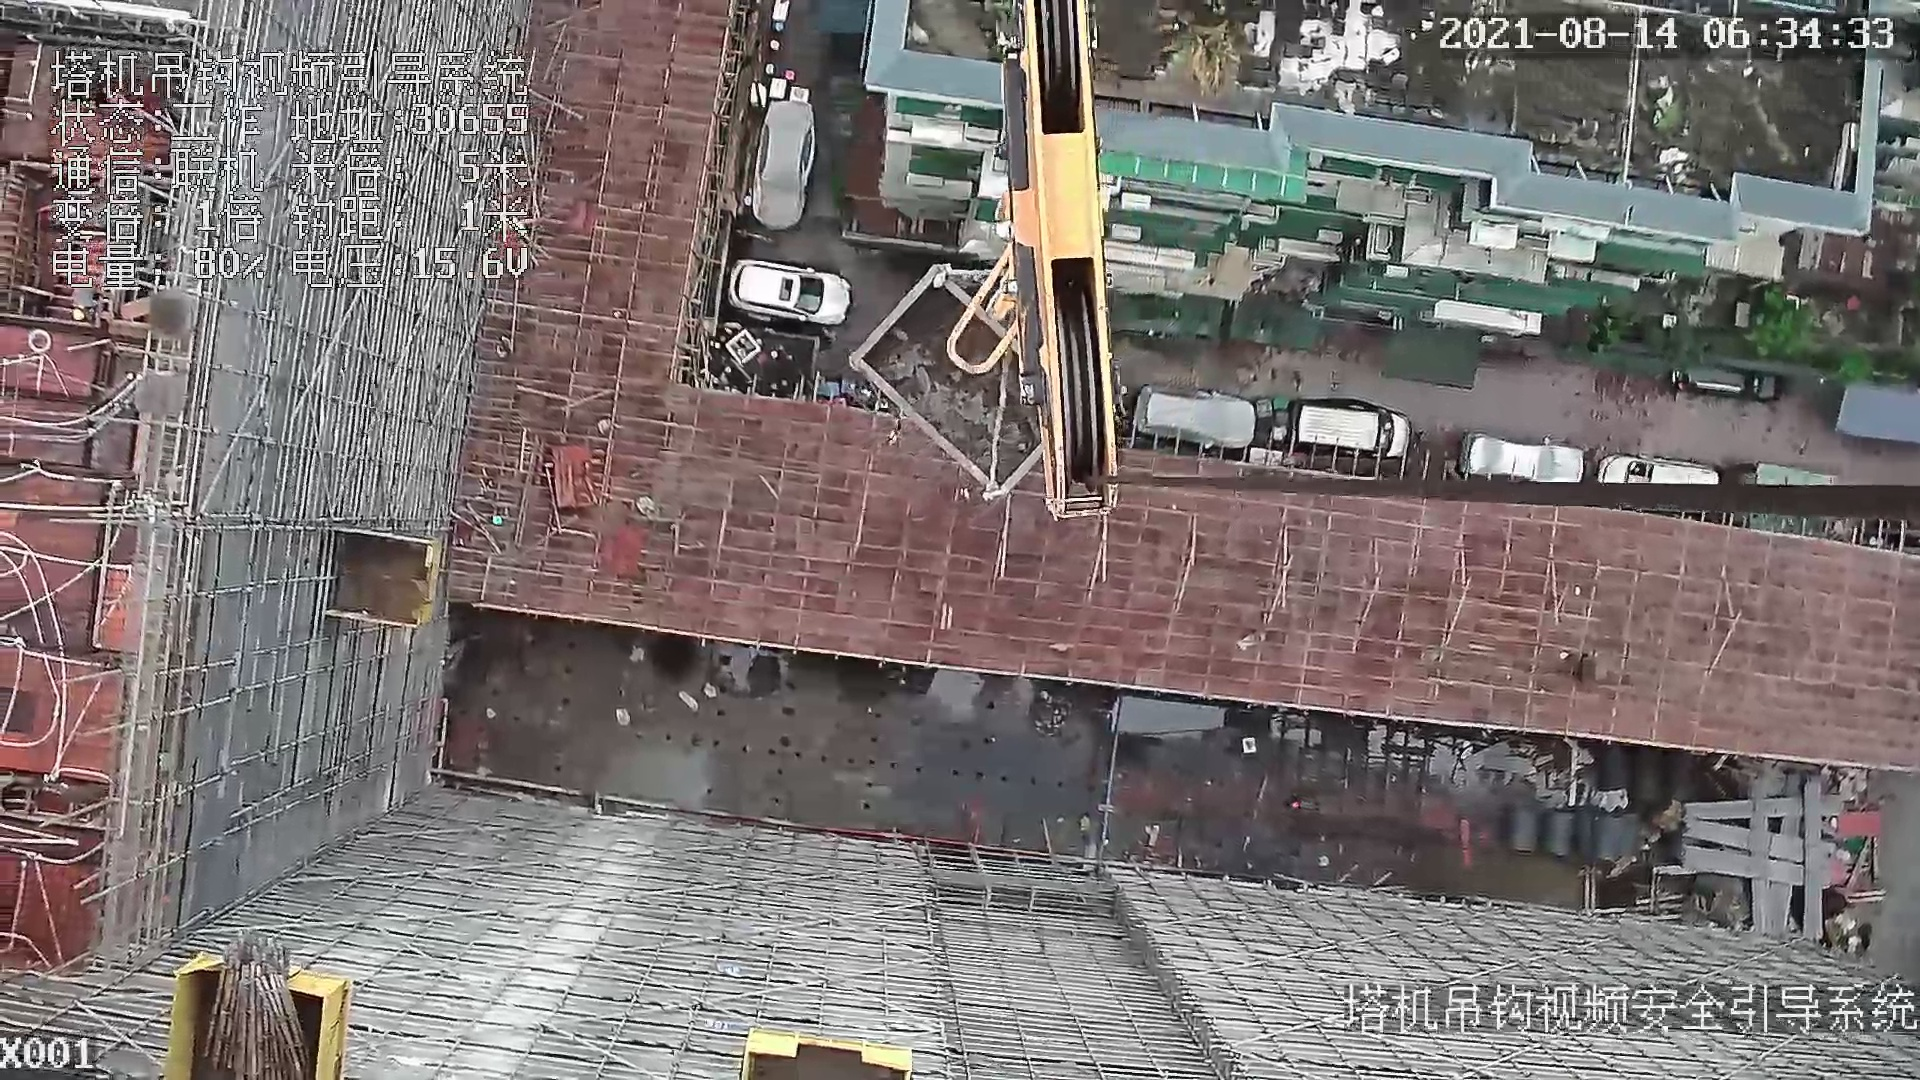hook: (945, 1, 1122, 513)
hopper: (855, 266, 1046, 522)
scaffold: (199, 924, 318, 1080)
